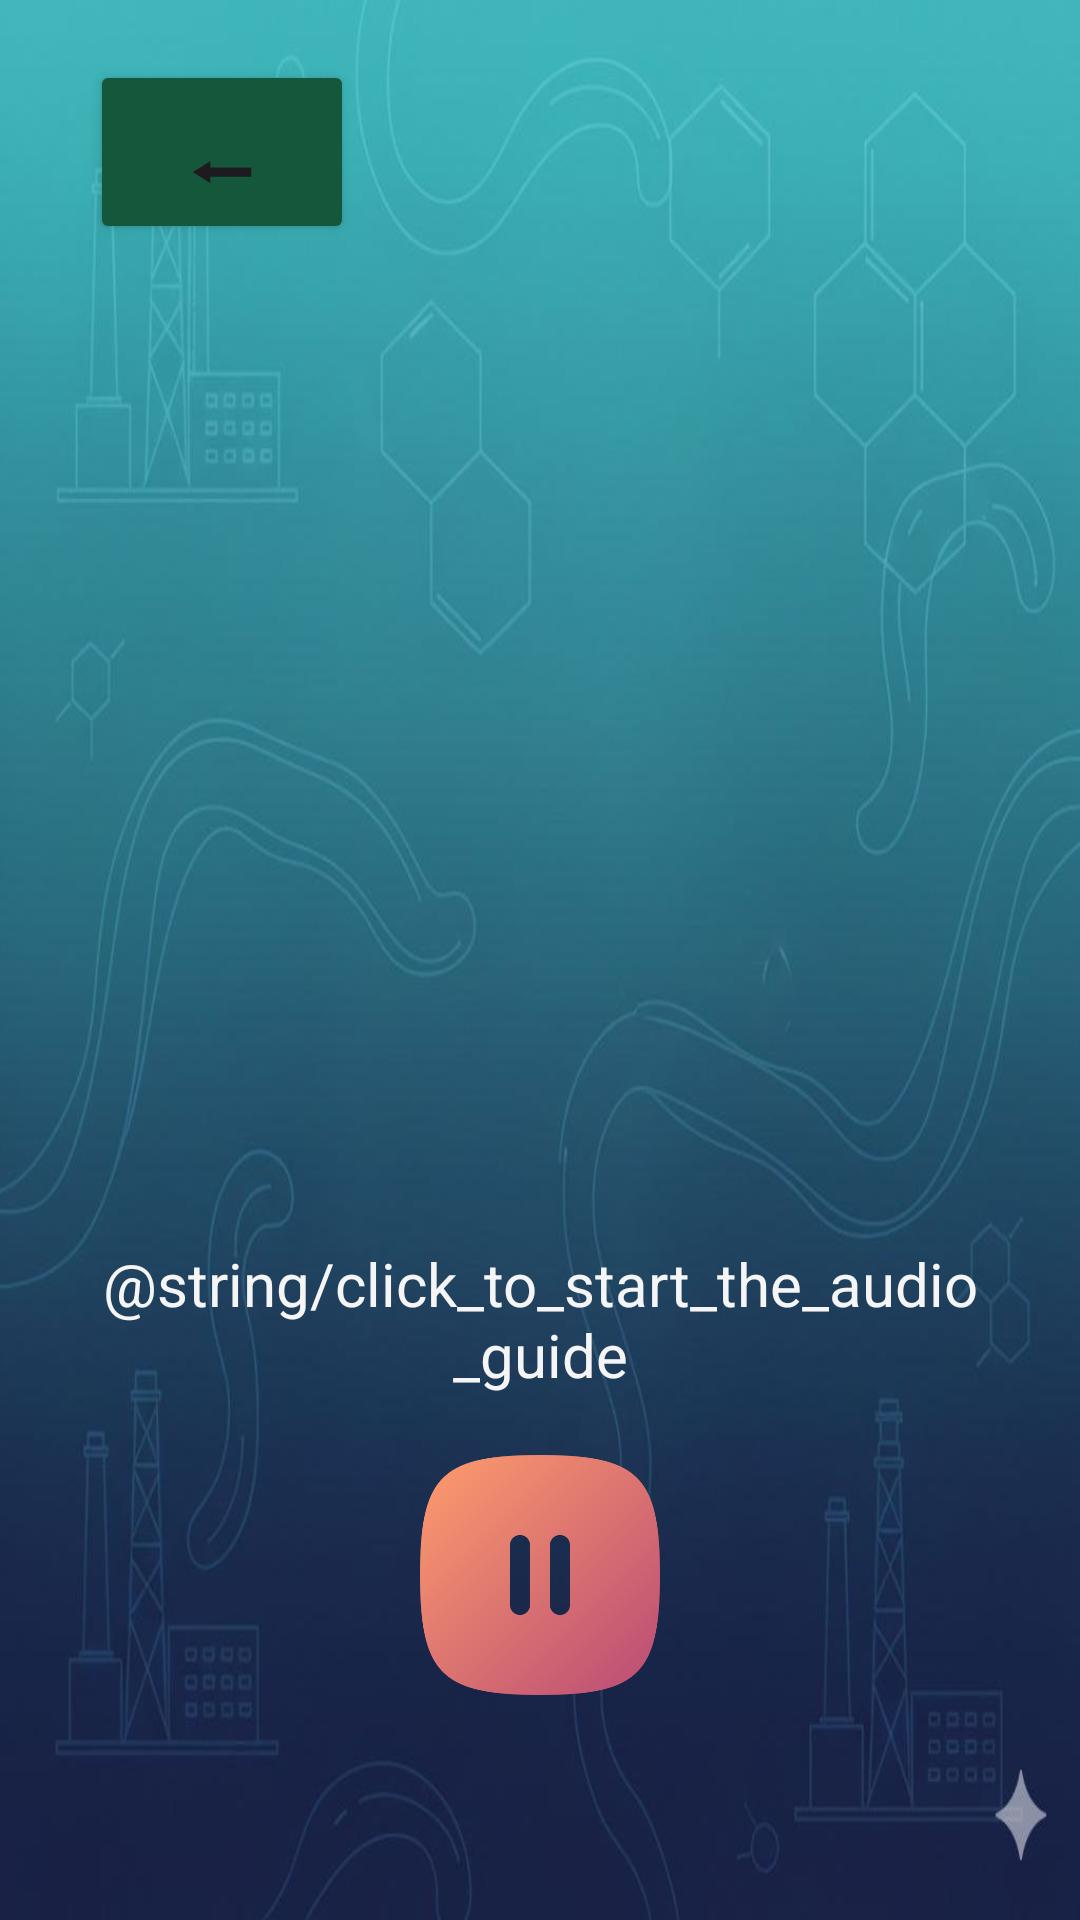

Named icons in this screenshot (1080px x 1920px) and their centers, point (x, y):
pausebtn: point (540, 1575)
